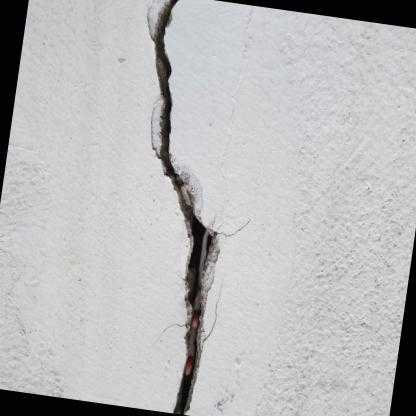crack: (154, 0, 211, 415)
